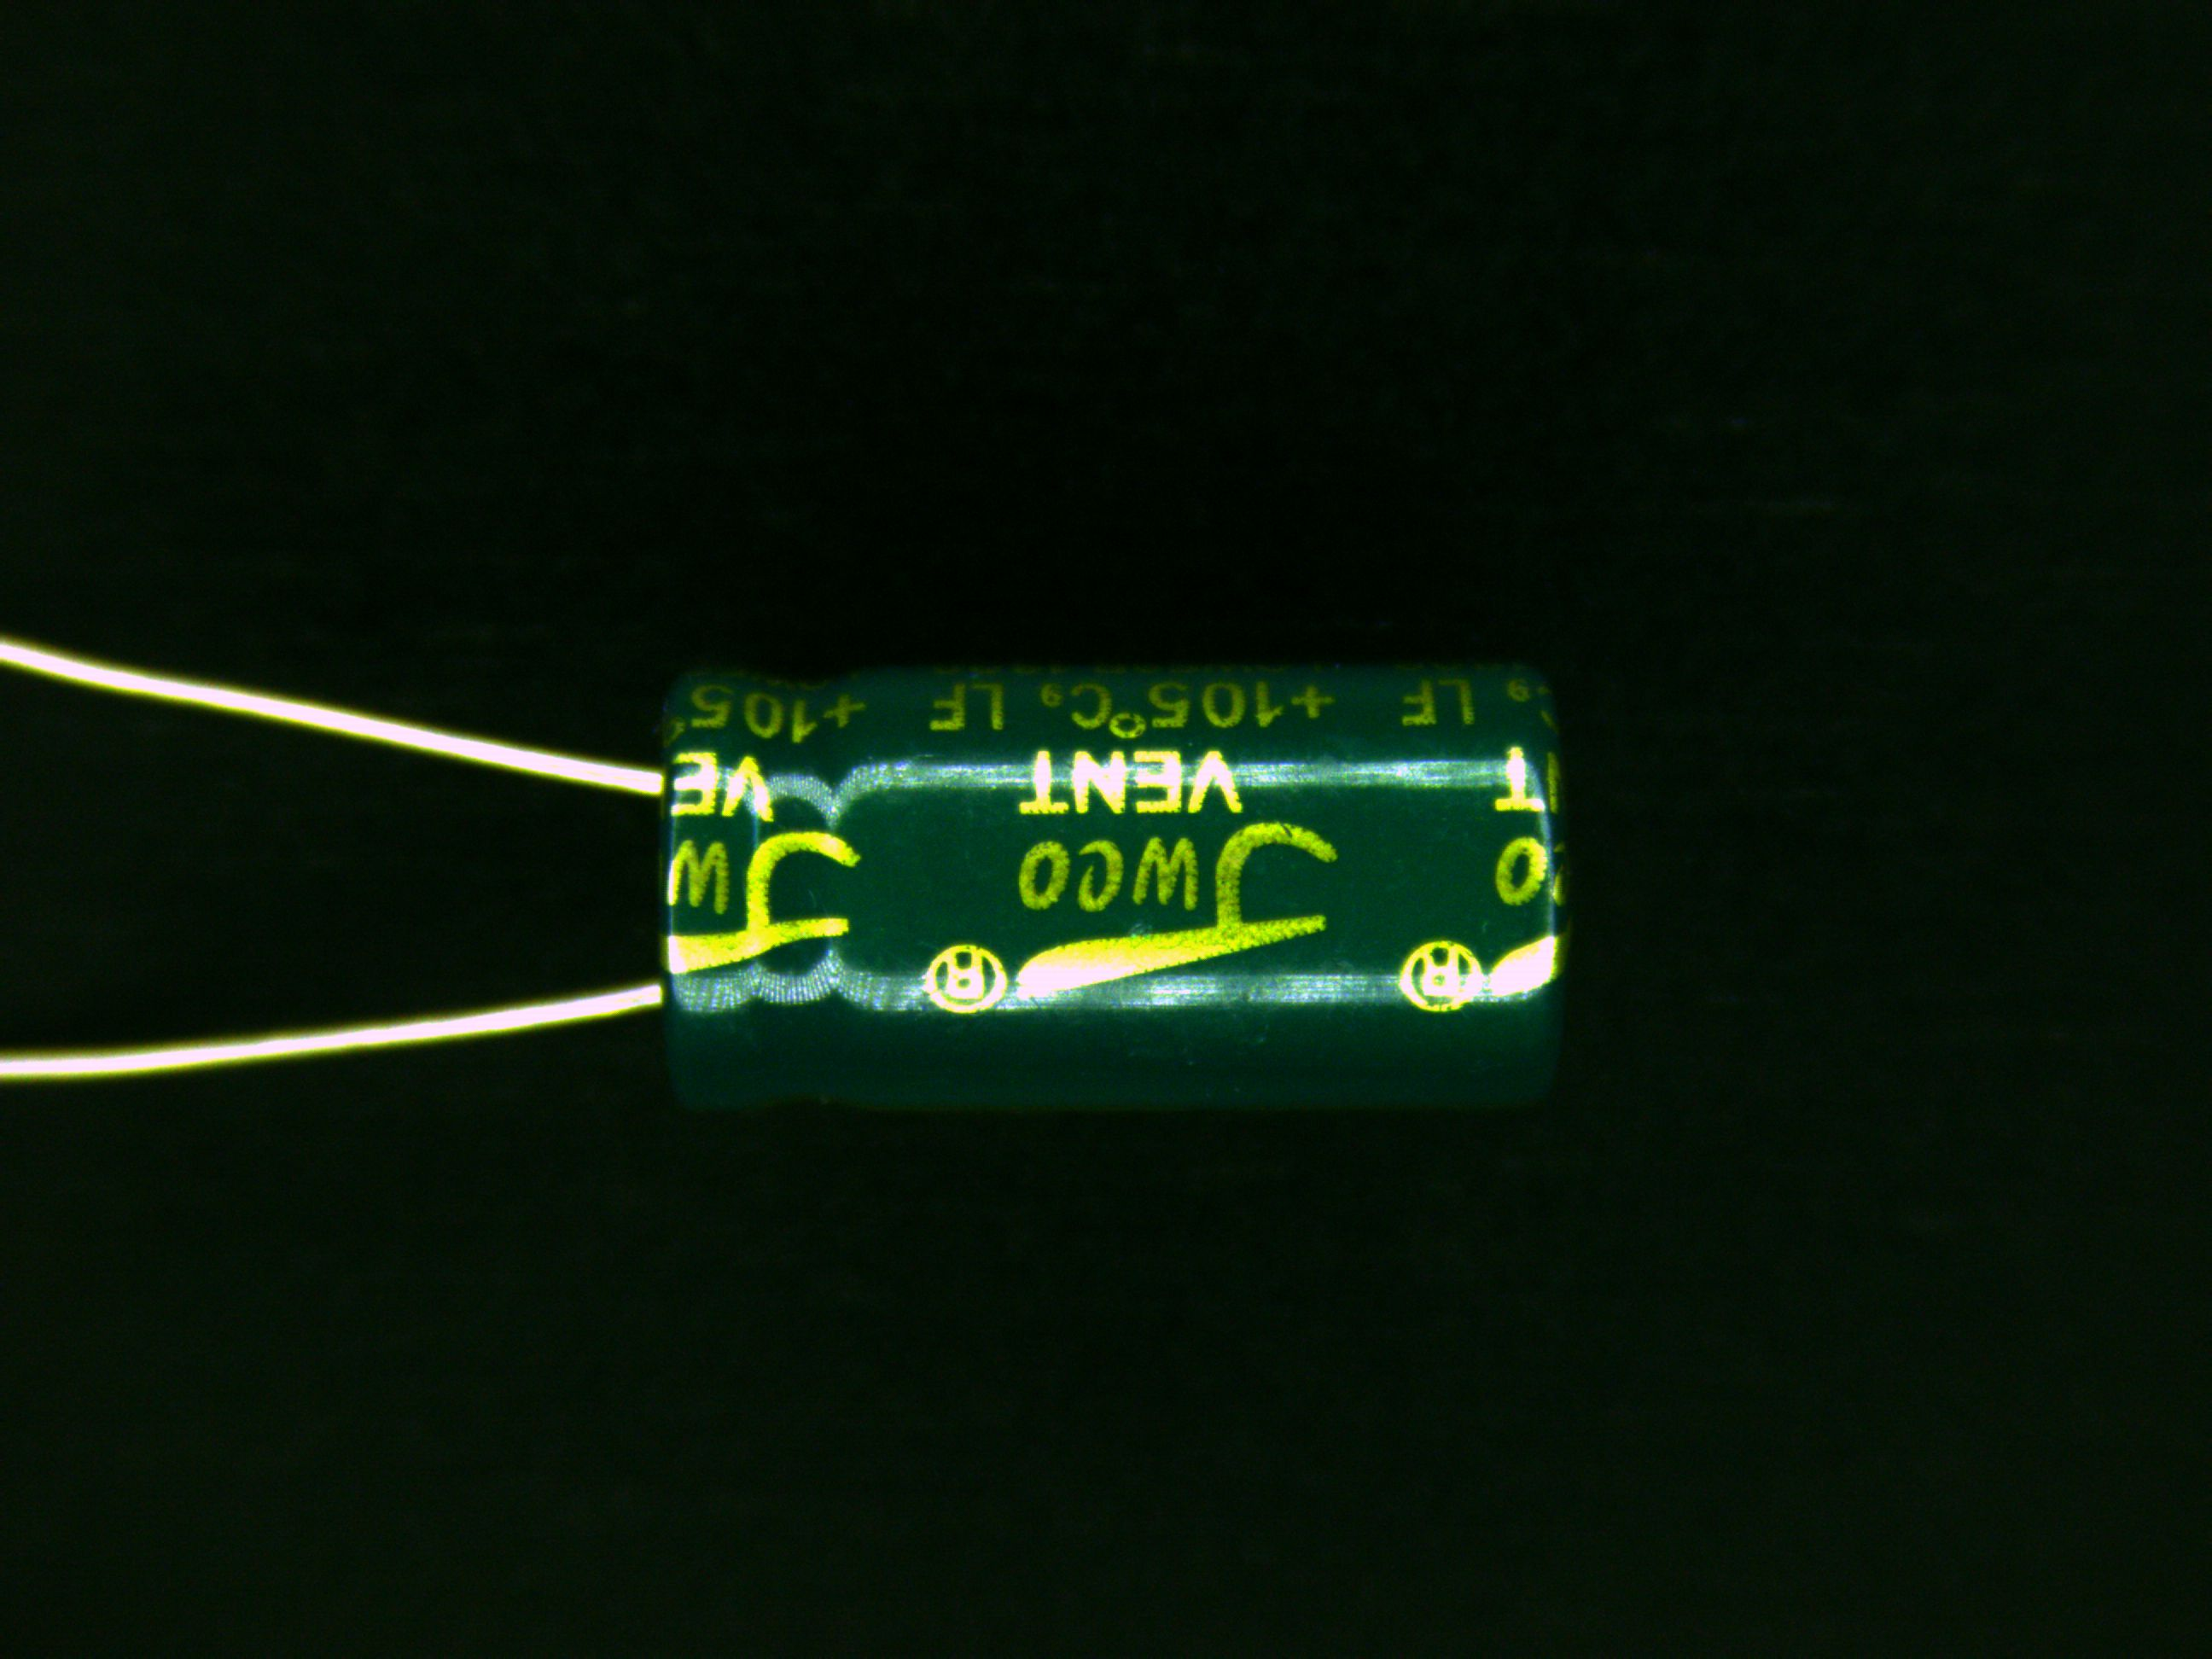c1: (521, 655, 1573, 1112)
